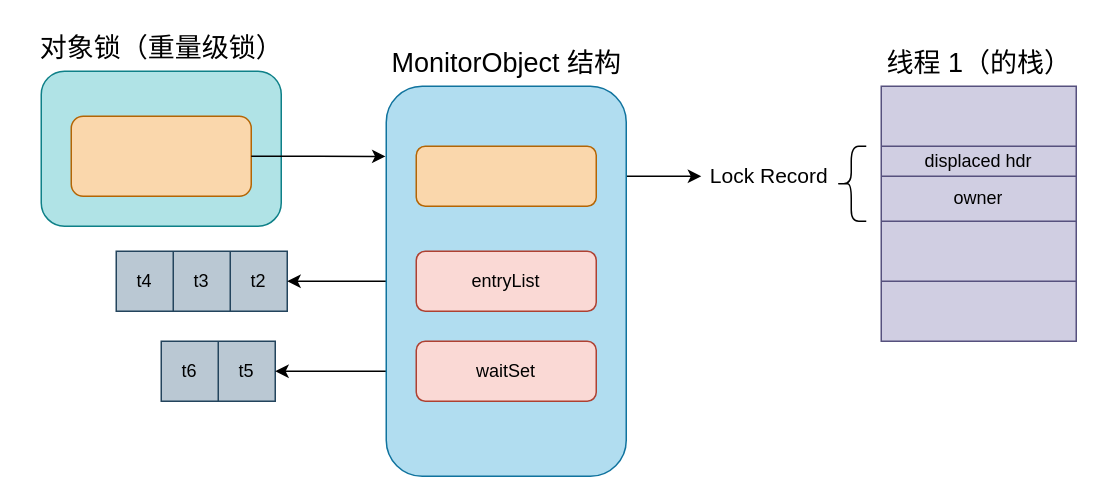
Image size: 1109x503. Some labels were removed from this diagram. Here are the shapes that lost their labels. From the top down, the centre of each, then its label:
At point 160,155: "Mark Word".
At point 505,175: "onwer".
